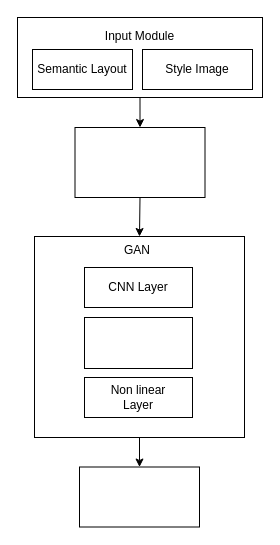
This 280x545 diagram has some shape labels left out. Each missing label, with the centre of its shape:
"Photo Realistic Image" goes at (139,496).
"Preprocessing Image" goes at (139,162).
"SPADE Normalization Layer" goes at (138,342).
